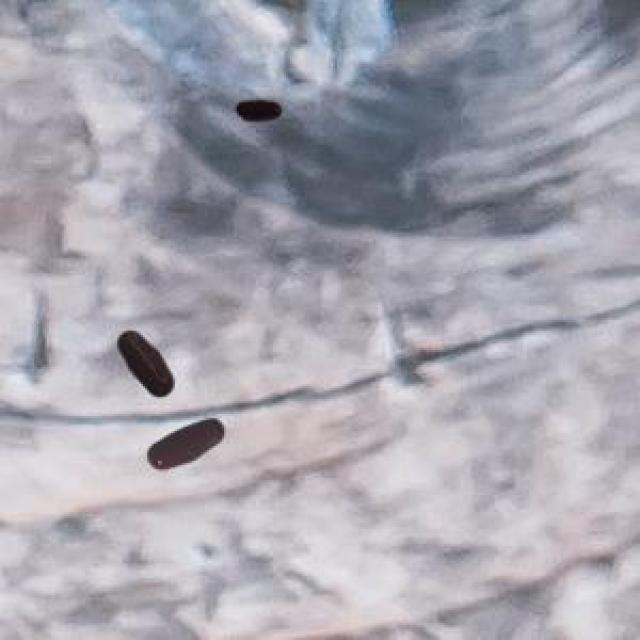DayZinc: (138, 410, 242, 479), (106, 321, 186, 403), (222, 86, 294, 136)
